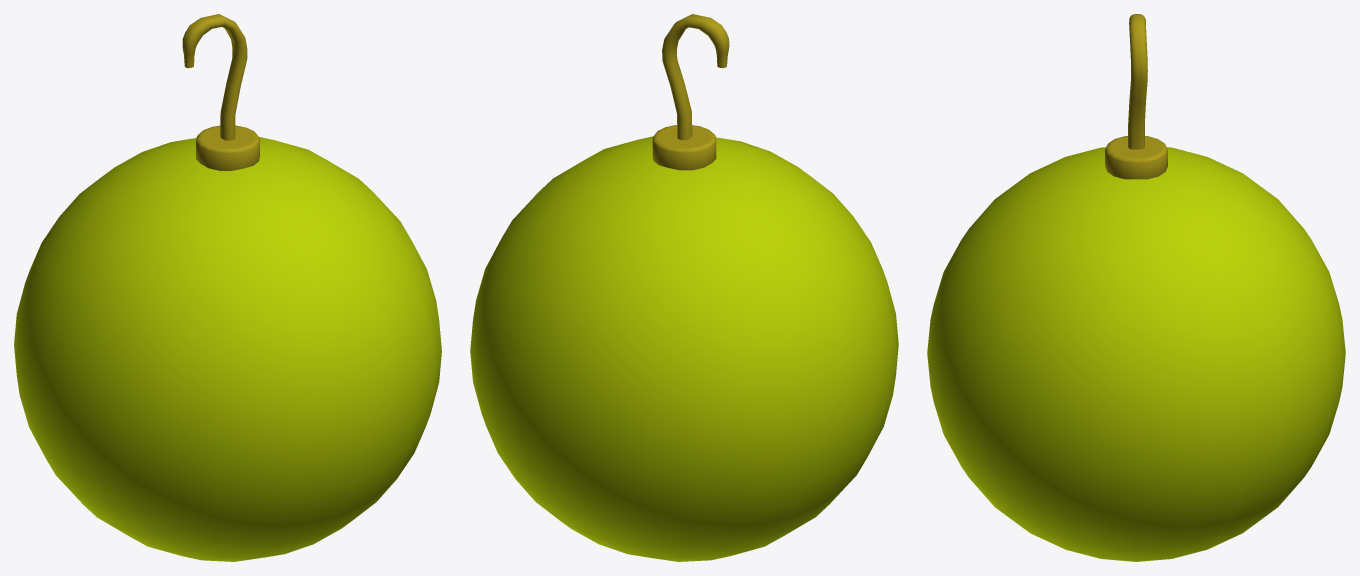
The model's file is ball_yellow.glb.
3 views of the same model, side by side, from view 1: azimuth 30°, elevation 25°; view 2: azimuth 150°, elevation 25°; view 3: azimuth 270°, elevation 25° (orthographic). The views are drawn at different scales.
Visible parts, largest first — view 1: Ball_yellow; view 2: Ball_yellow; view 3: Ball_yellow.
Part boxes in pixels (x1,y1,x2,y2): Ball_yellow: (14,14,441,561); Ball_yellow: (470,14,898,561); Ball_yellow: (927,14,1345,561).
Size of the model in its own units: 0.0907 by 0.1236 by 0.0907.
